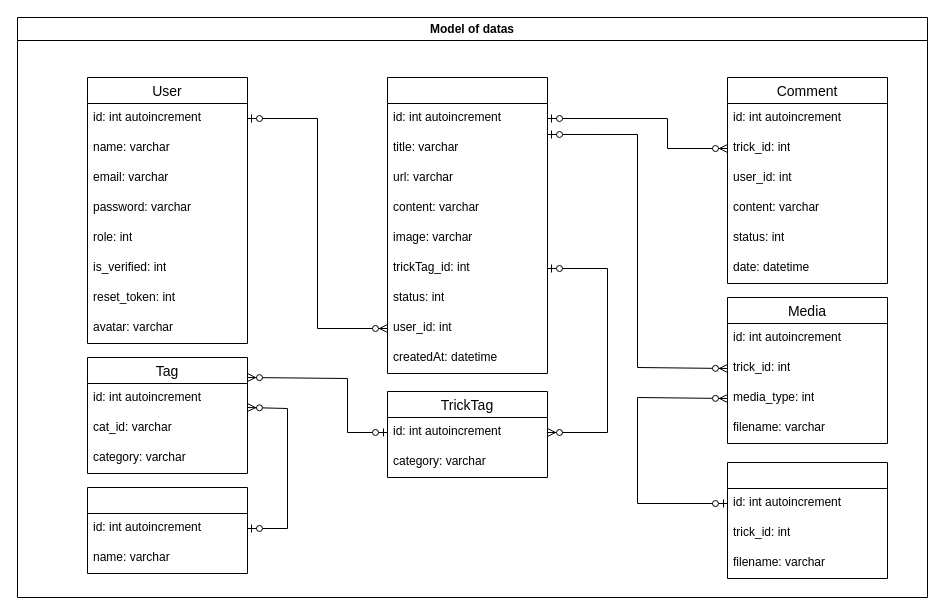
Image size: 945x615. Some labels were removed from this diagram. Here are the shapes that lost their labels. From the top down, the box of each, then its label:
(386, 76, 548, 374): Tricks
(86, 486, 248, 574): Category
(726, 462, 888, 578): MediaType
